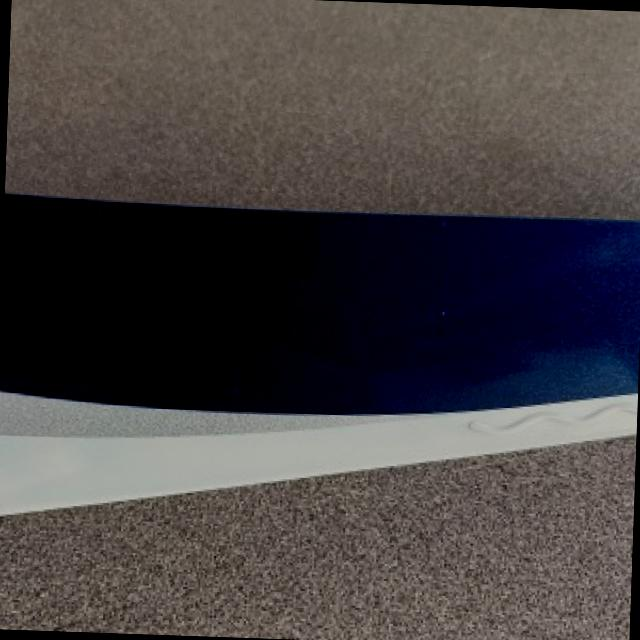healthy: (4, 0, 640, 216)
